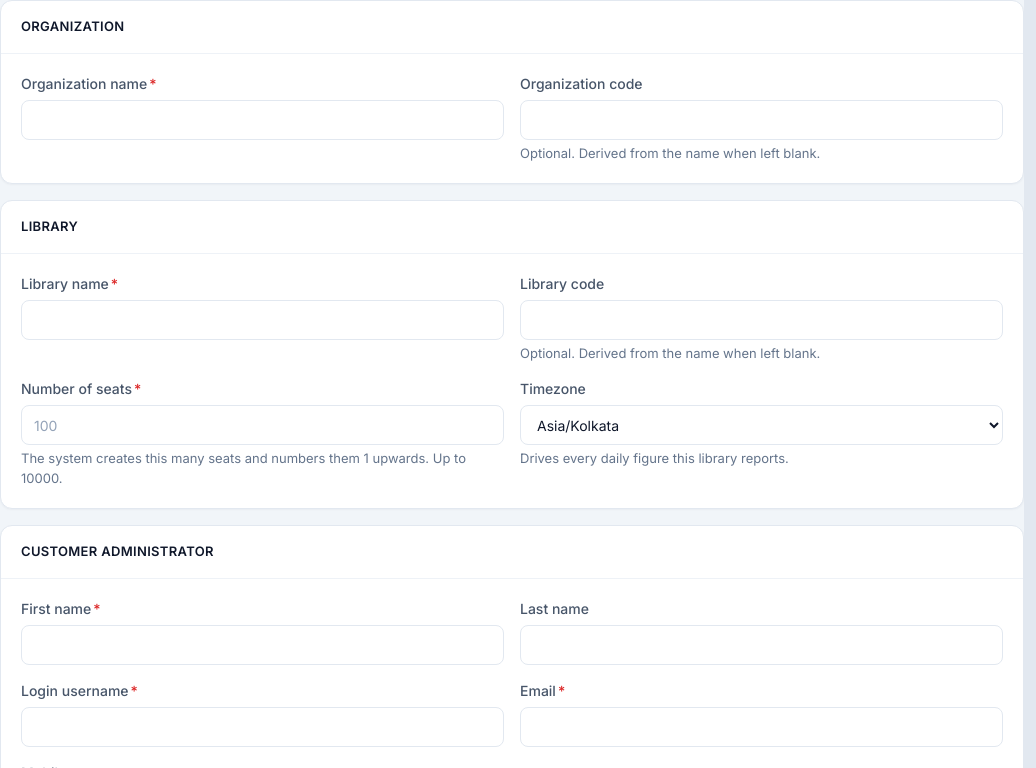
Scenario: CustomerOnboardingForm - number of seats › requires it
In the field labelled "Organization name*": [262, 120] box [21, 100, 504, 140], type "Customer A"
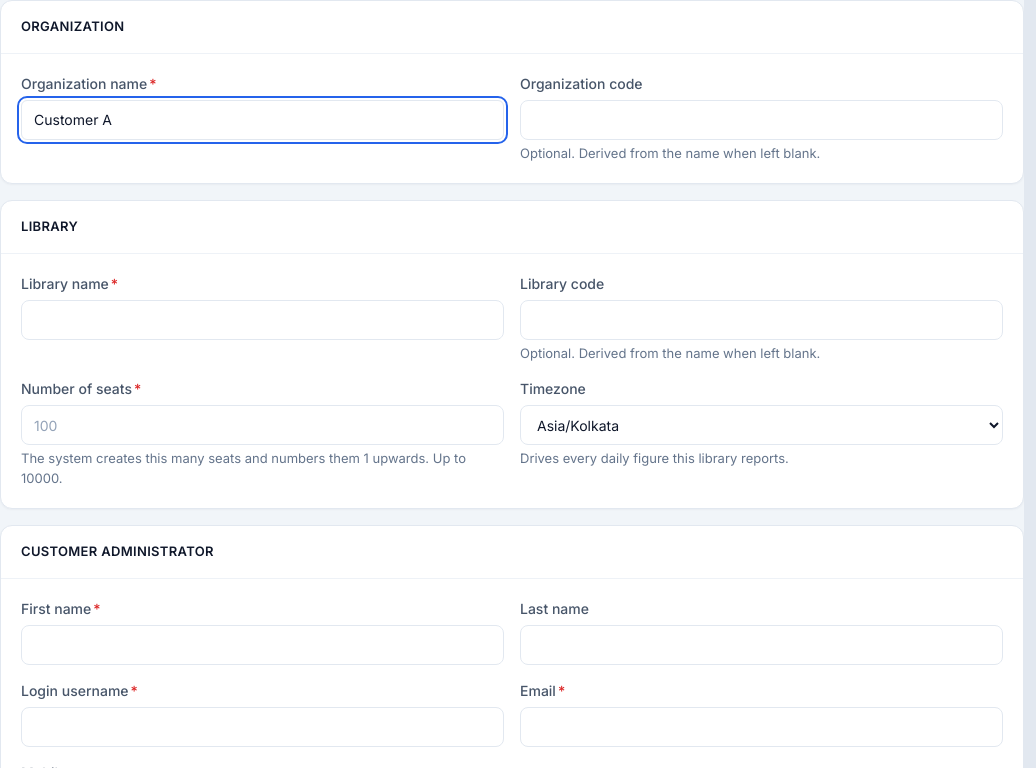
In the field labelled "Library name*": [262, 320] box [21, 300, 504, 340], type "Library A"
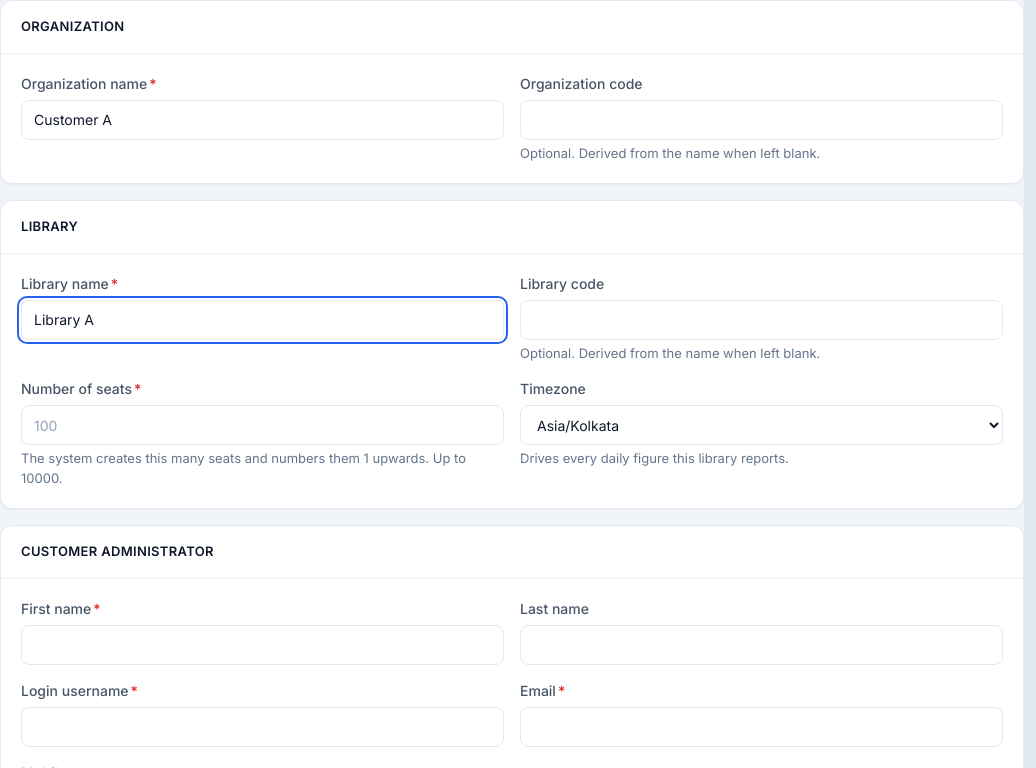
In the field labelled "First name*": [262, 644] box [21, 624, 504, 664], type "Asha"
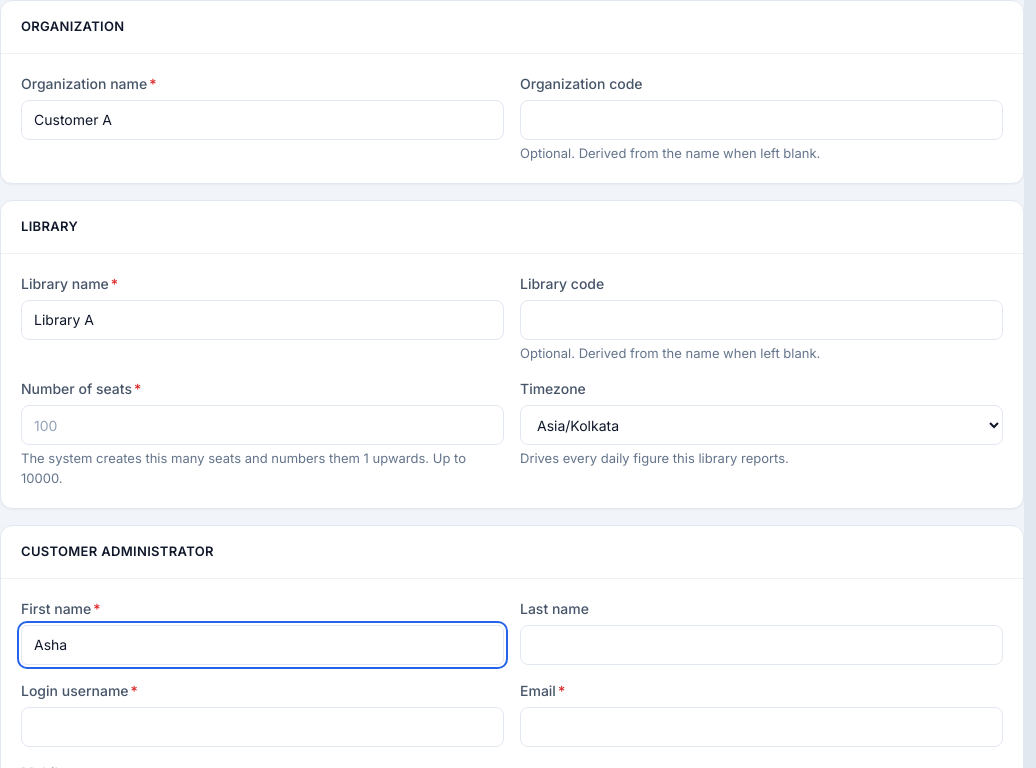
In the field labelled "Login username*": [262, 726] box [21, 706, 504, 746], type "admina"
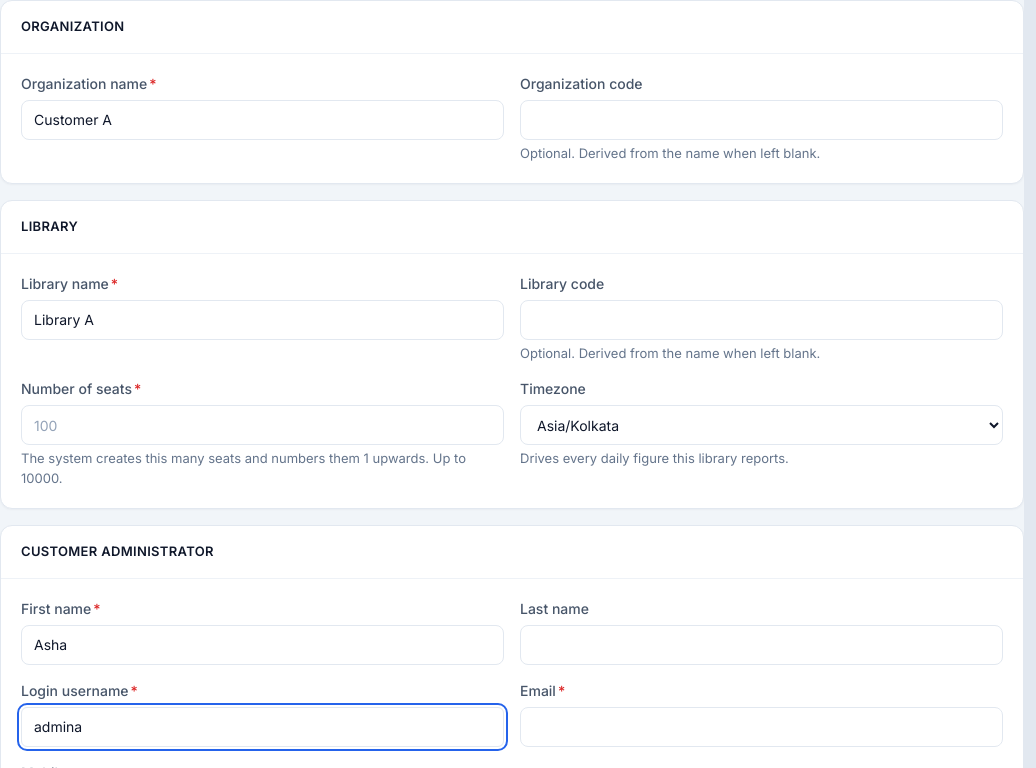
In the field labelled "Email*": [762, 726] box [520, 706, 1003, 746], type "admina@customer.example"
(page scrolled)
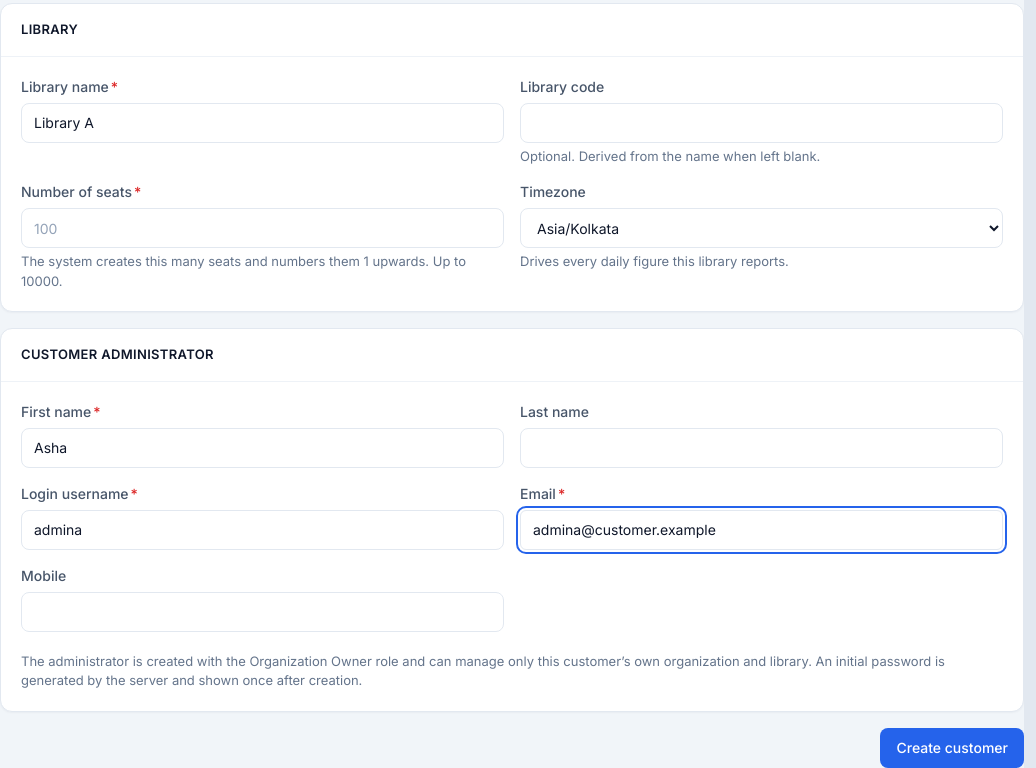
Click the button "Create customer": [952, 748] box [880, 728, 1024, 767]
(page scrolled)
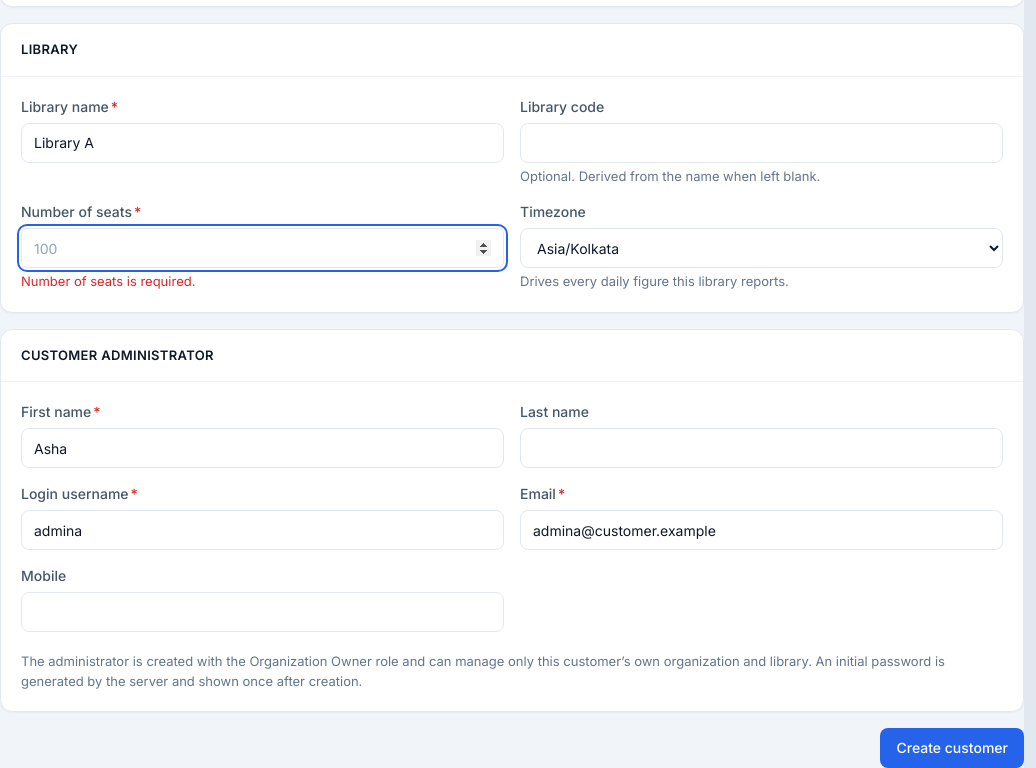
Expected: the text "Number of seats is required." is shown, [21, 273, 195, 289]
